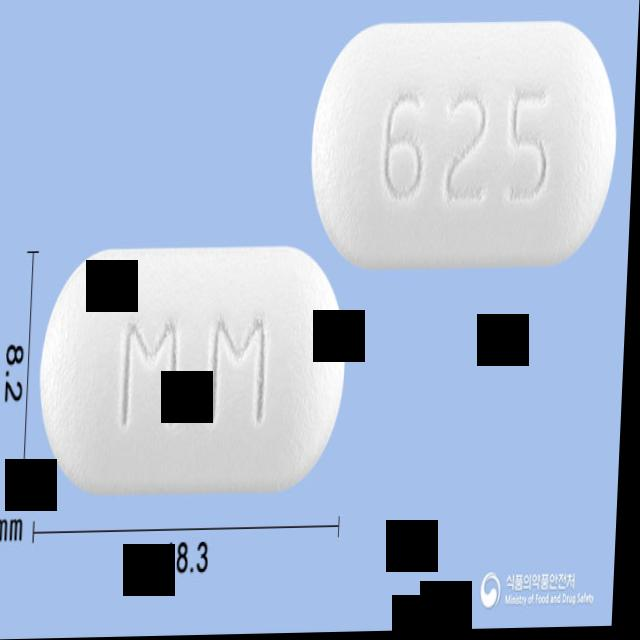Myungmoon Amoclan Tab: (39, 244, 354, 498), (310, 20, 624, 268)
